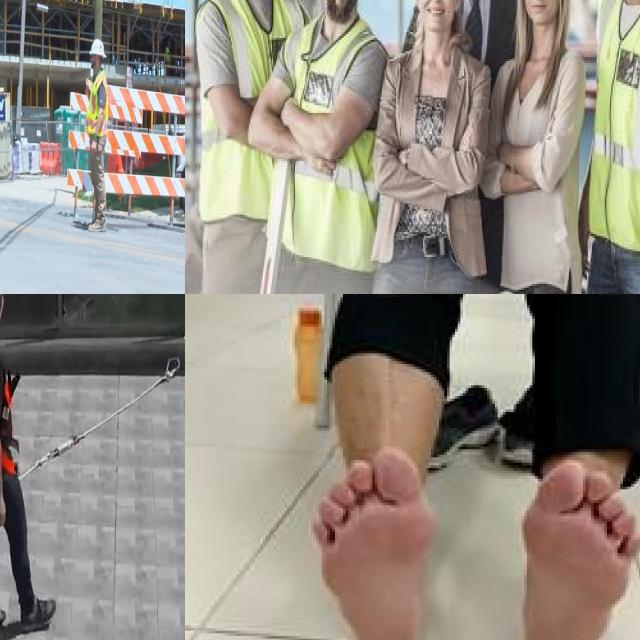Barefoots: (295, 440, 444, 640), (507, 454, 640, 640)
Harness: (21, 359, 181, 480)
No_Ear-Protection: (451, 0, 463, 12)
face_nomask: (415, 0, 461, 47), (518, 0, 571, 32)
head_helmet: (88, 40, 104, 55)
person: (82, 38, 108, 230)
vest: (88, 77, 107, 134)
